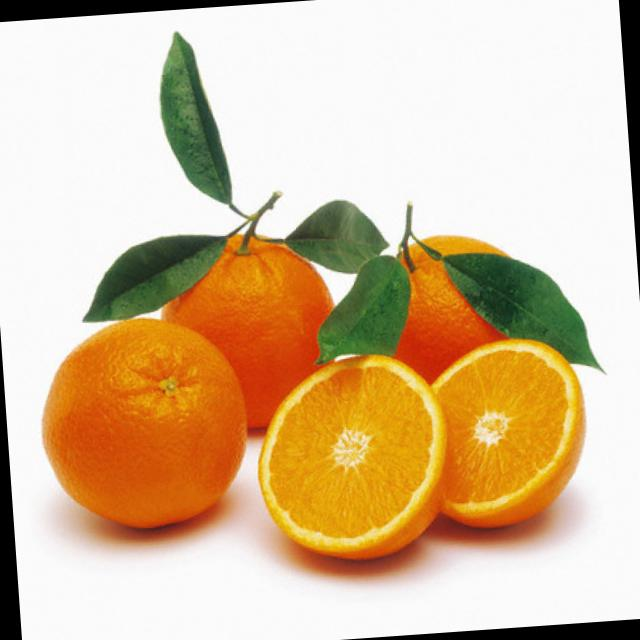orange: (28, 312, 252, 546), (357, 217, 580, 432), (142, 226, 345, 452)
